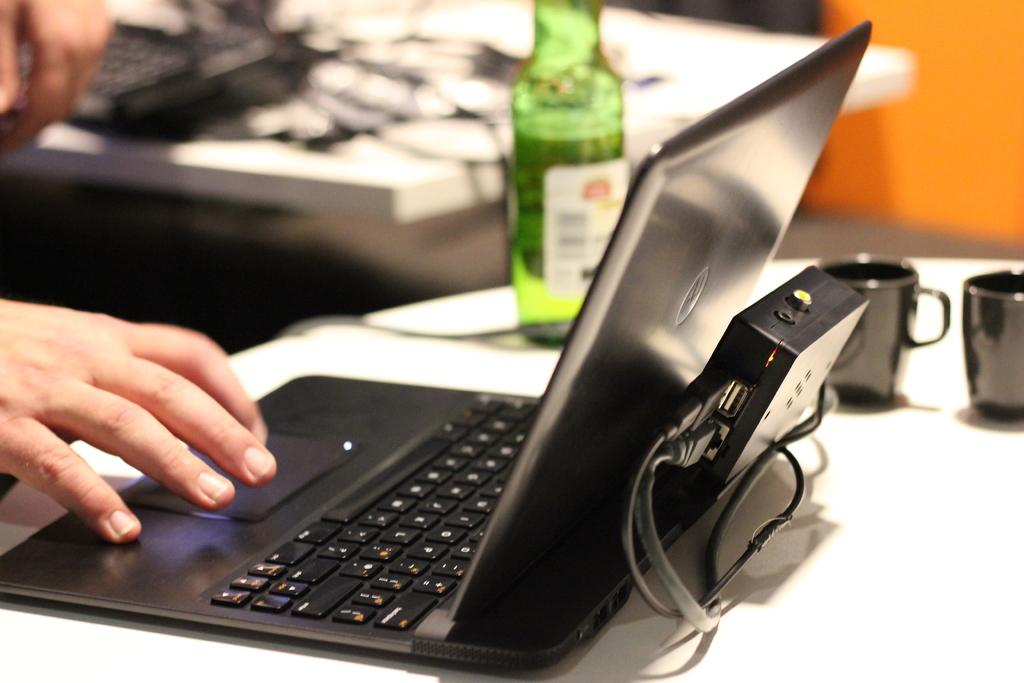Computer-keyboard: (210, 393, 541, 635), (17, 0, 275, 123)
Laptop: (98, 92, 844, 682)
